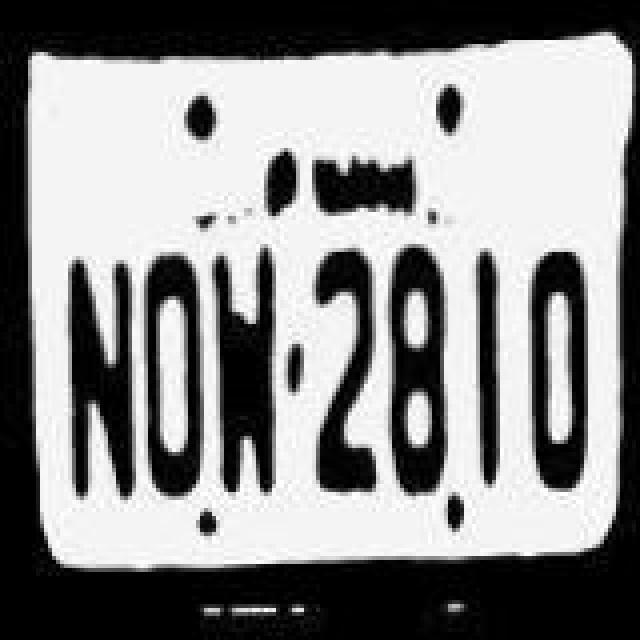1: (464, 248, 508, 500)
2: (304, 244, 380, 500)
8: (382, 244, 454, 500)
N: (52, 242, 136, 506)
O: (518, 244, 590, 504), (140, 246, 208, 494)
W: (212, 240, 288, 492)
